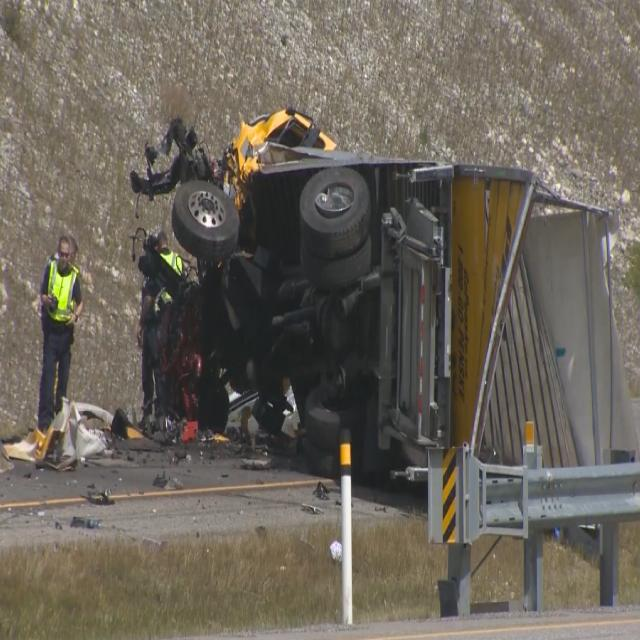Accident: (106, 106, 616, 570)
